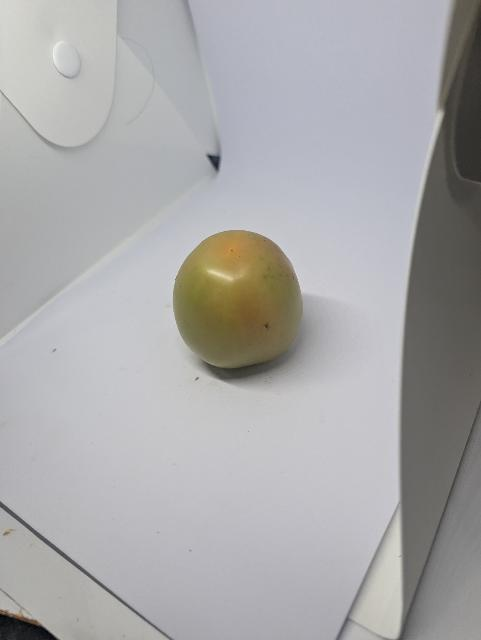breaker: (153, 223, 321, 382)
